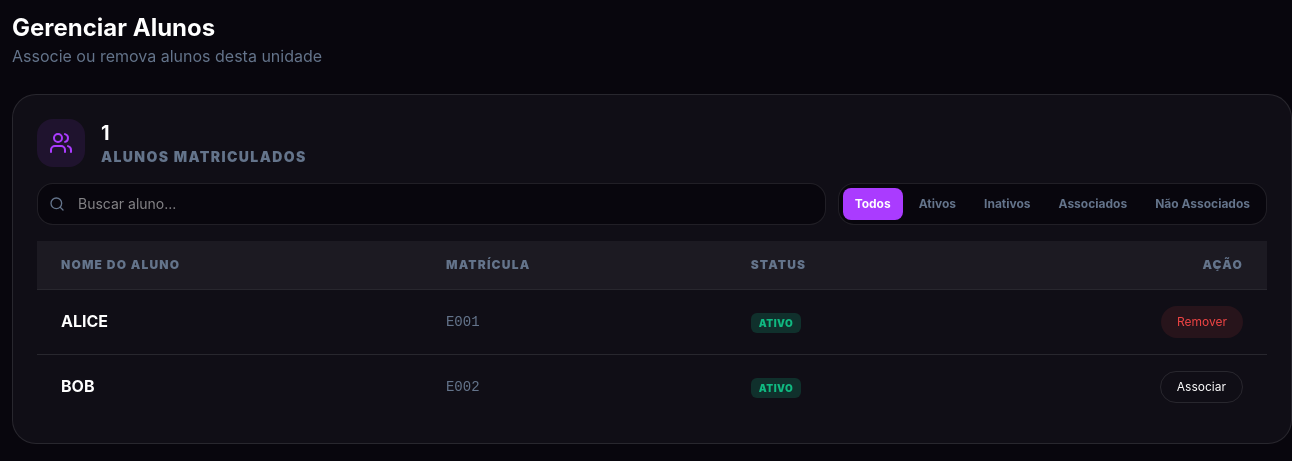
Test: SchoolAlunos › filters students by search term
Check: the text "Alice" is shown, box [37,289,422,354]
Type "Bob" into the field with placeholder "Buscar aluno...".
click(431, 204); type("Bob")  # box [37,183,826,225]
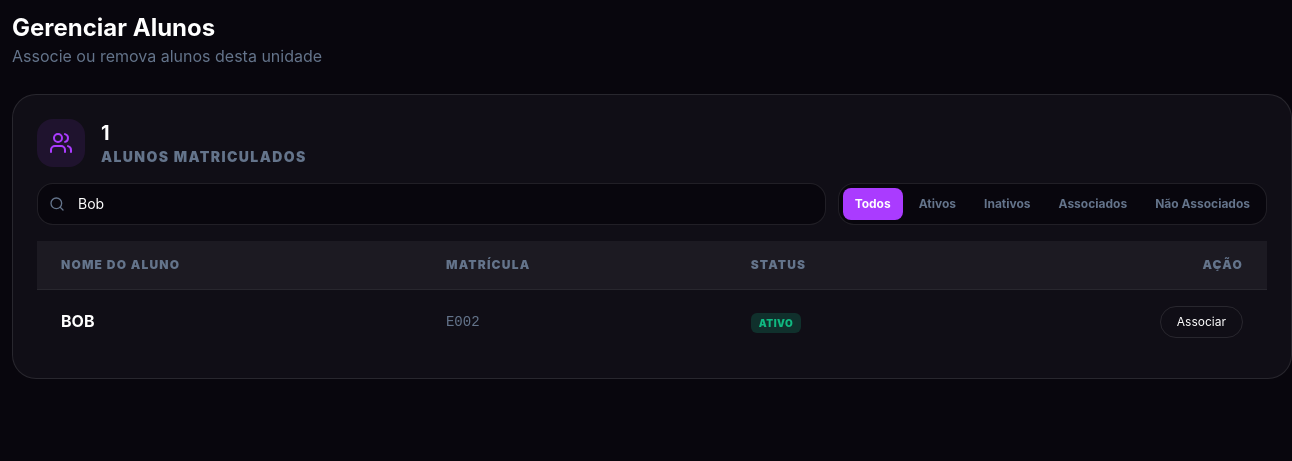
Check: the text "Bob" is shown, box [37,289,422,354]
Check: the text "Alice" is gone
